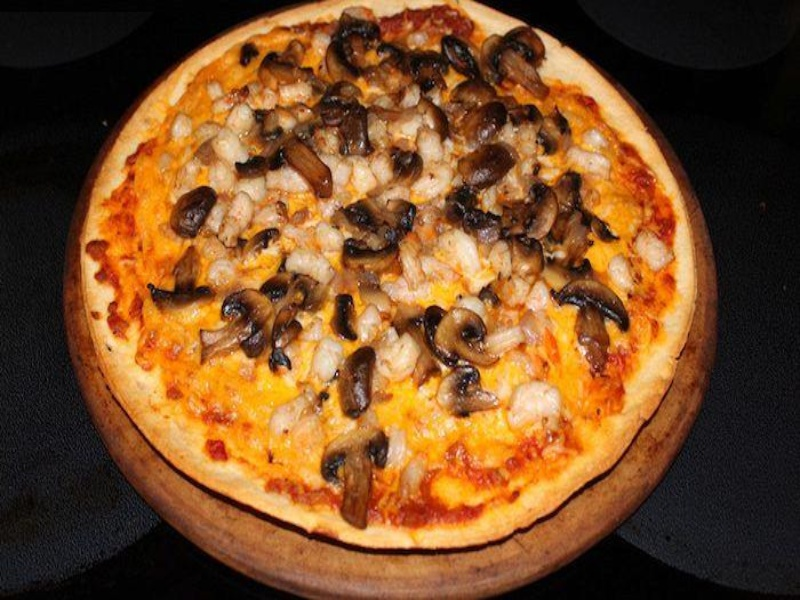champignon: (314, 428, 401, 535), (193, 286, 281, 370), (430, 304, 508, 378)
